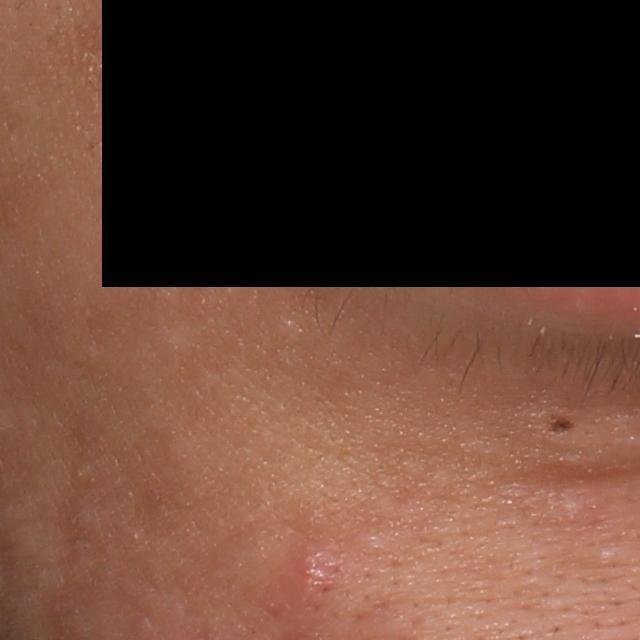nevus: (537, 411, 579, 441)
papule: (277, 540, 348, 614)
